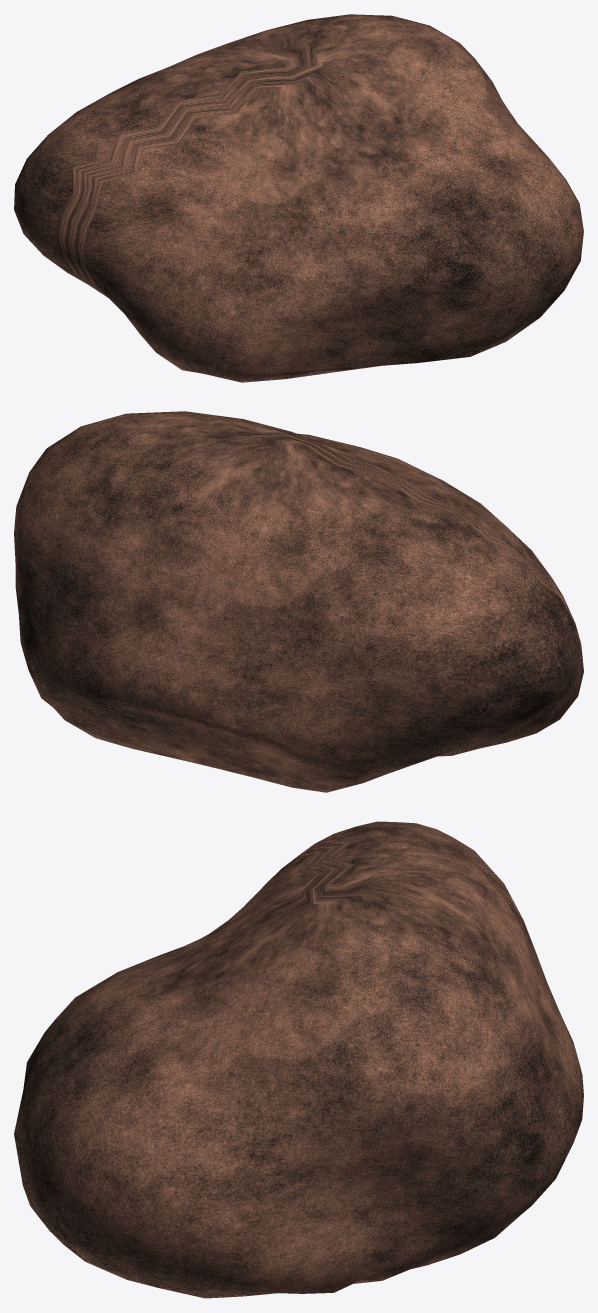
File: rock_7.dae
3 views of the same model, one above another, from view 1: azimuth 30°, elevation 25°; view 2: azimuth 150°, elevation 25°; view 3: azimuth 270°, elevation 25° (orthographic). The views are drawn at different scales.
Visible parts, largest first — view 1: rock_7-node; view 2: rock_7-node; view 3: rock_7-node.
Part boxes in pixels (x1=…): rock_7-node: x1=14, y1=14, x2=583, y2=382; rock_7-node: x1=14, y1=411, x2=583, y2=792; rock_7-node: x1=14, y1=821, x2=583, y2=1298.
Size of the model in its own units: 1.8 by 1.48 by 0.8549.
Materials: 1 (1 with a texture image).
